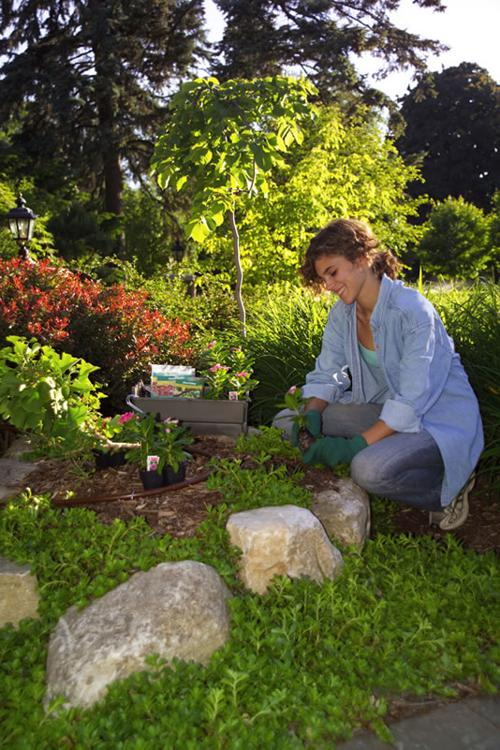person: (274, 214, 485, 540)
